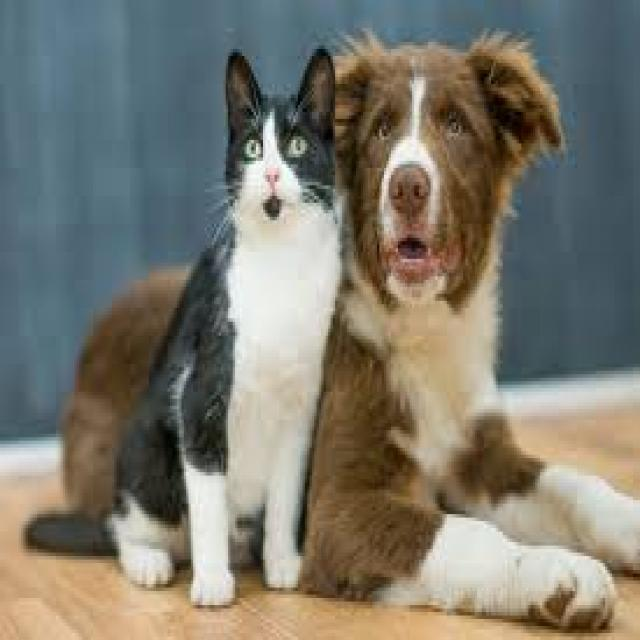cat: (115, 26, 342, 604)
dog: (60, 12, 640, 632)
